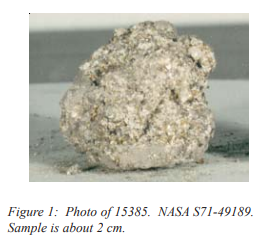Basalt: (35, 11, 235, 181)
